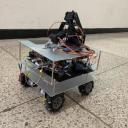cart: (18, 40, 102, 113)
